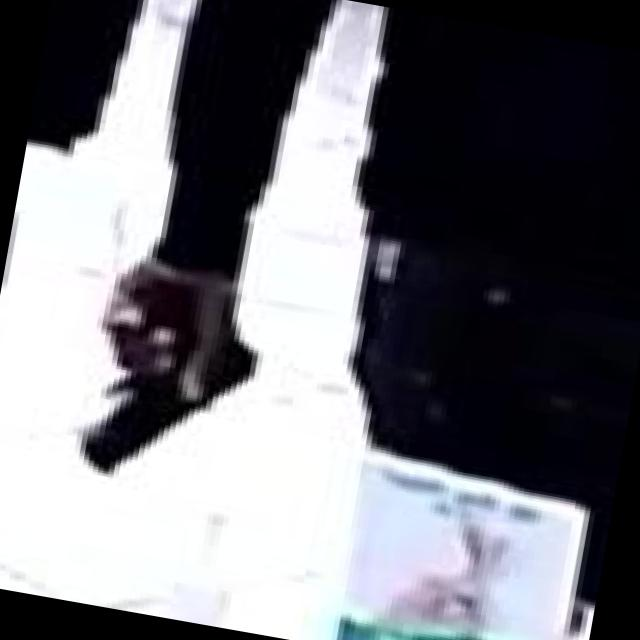Guns: (20, 262, 312, 513)
